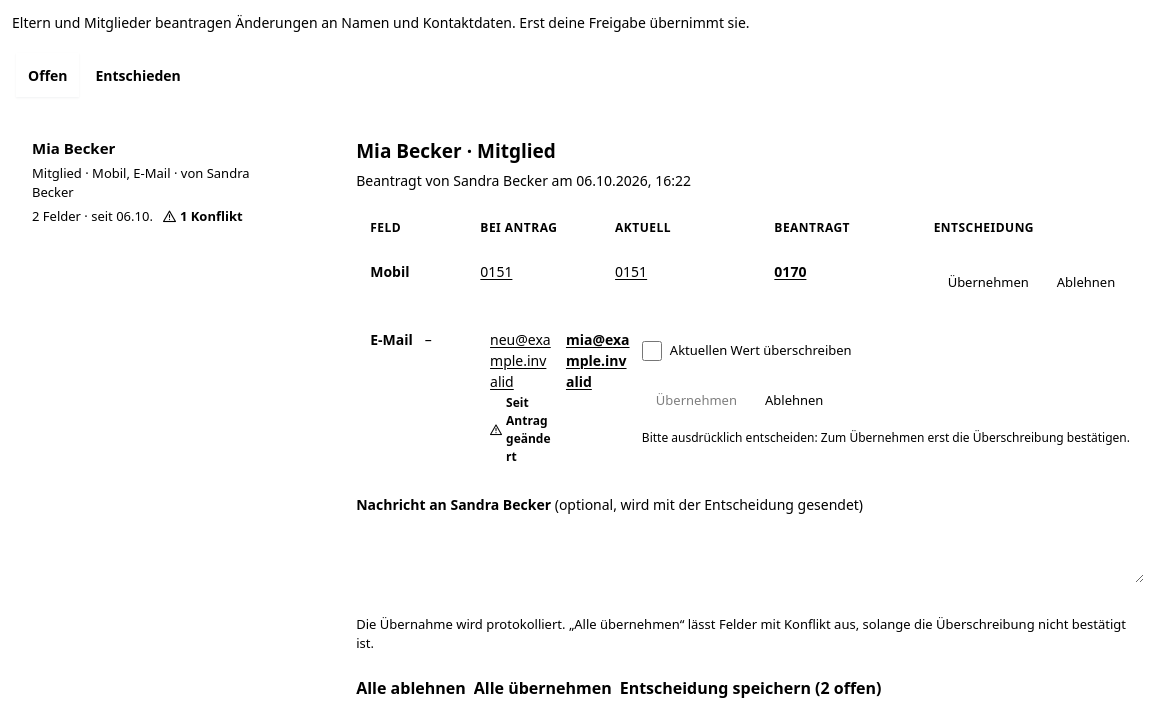
Scenario: ChangeRequestsTab › shows the conflict message when the server rejects unconfirmed overwrites
Click the button "Alle ablehnen". click: (411, 688)
box: [356,666,466,710]
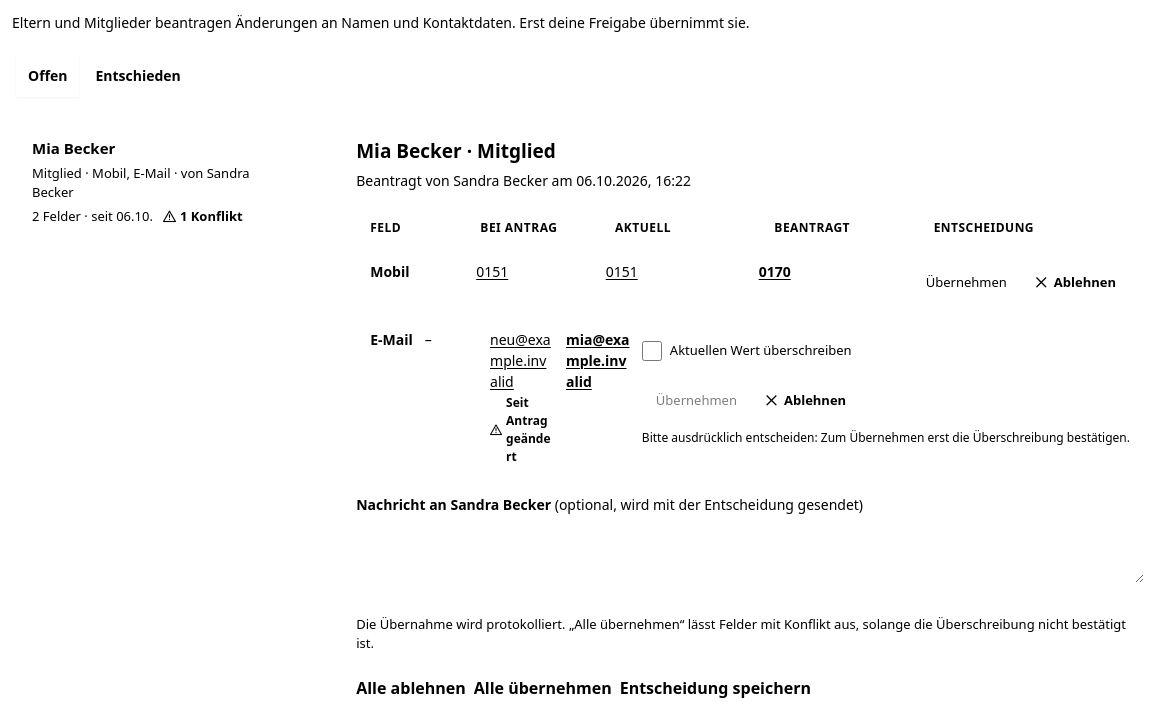
Click the button "Entscheidung speichern". click: (715, 688)
box: [620,666,811,710]
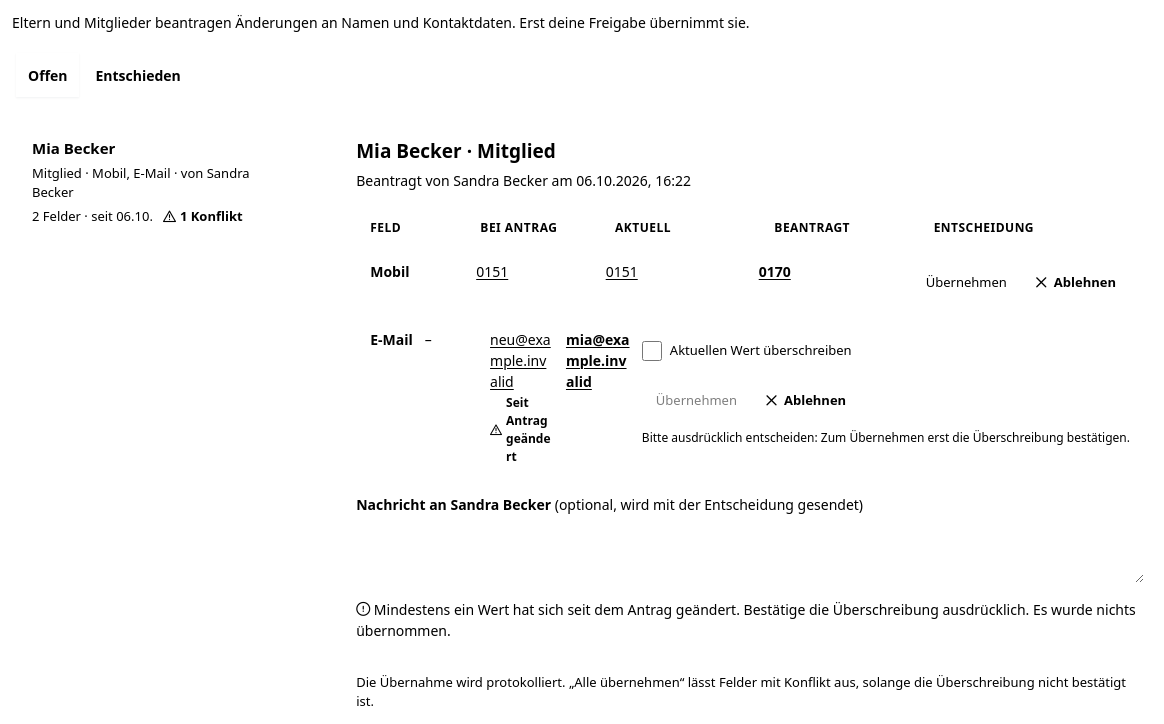
Now the message shows "Es wurde nichts übernommen", box [356,600,1136,640]
